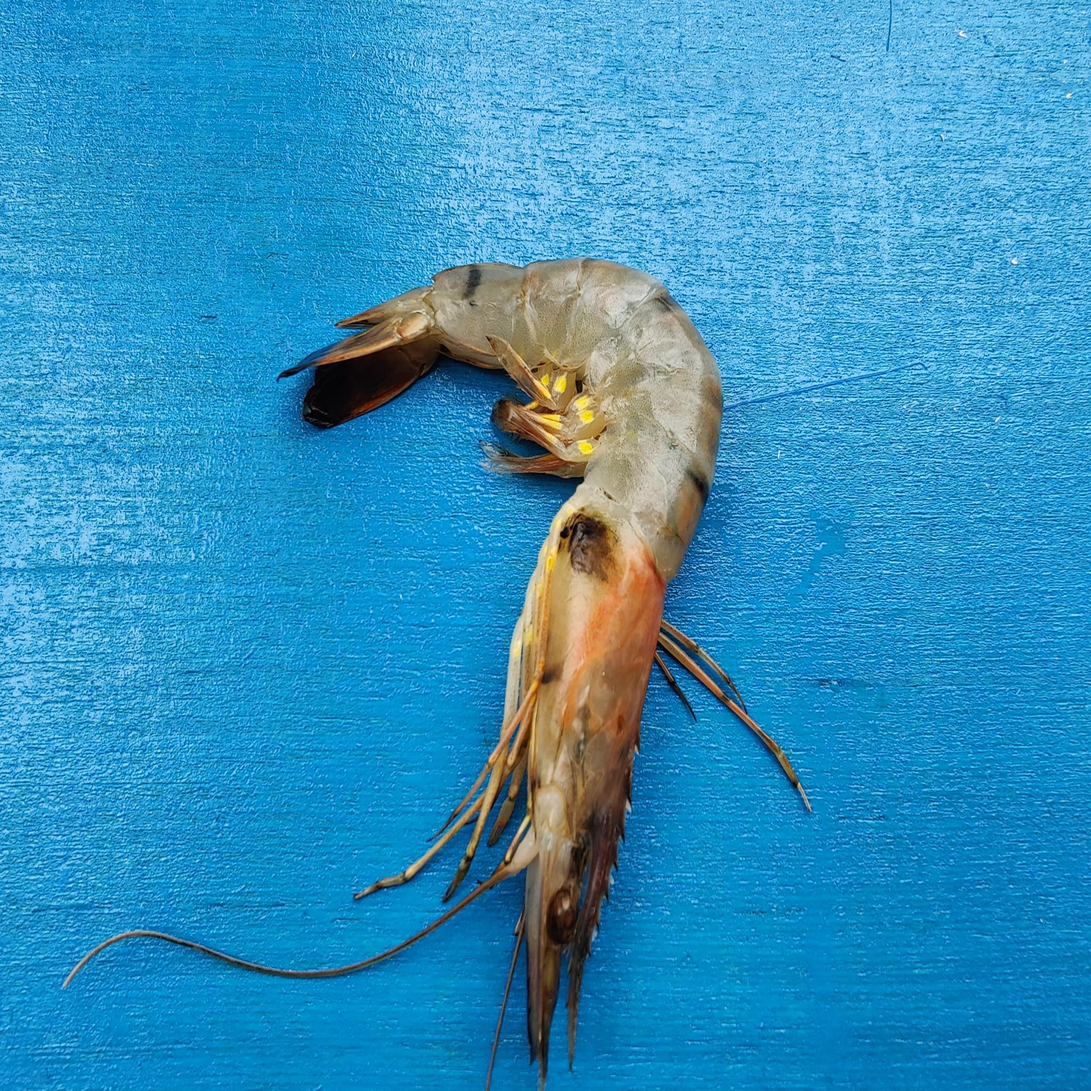blackgill: (559, 511, 616, 589)
